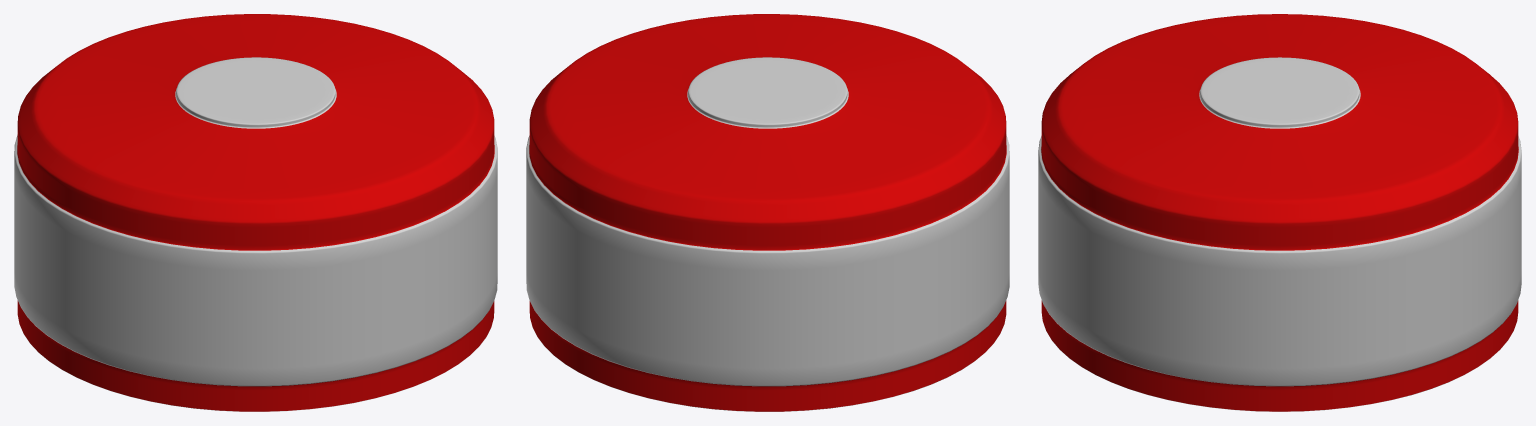
Rendered from bumper1.fbx.
The picture shows the model from 3 angles, left to right: view 1: azimuth 30°, elevation 25°; view 2: azimuth 150°, elevation 25°; view 3: azimuth 270°, elevation 25°; orthographic projection.
Visible parts, largest first — view 1: Cylinder; view 2: Cylinder; view 3: Cylinder.
Part boxes in pixels (x1=…): Cylinder: x1=14, y1=14, x2=497, y2=411; Cylinder: x1=526, y1=14, x2=1009, y2=411; Cylinder: x1=1038, y1=14, x2=1521, y2=411.
Size of what is drawn, in the model's own units: 2.02 by 1.02 by 2.02.
